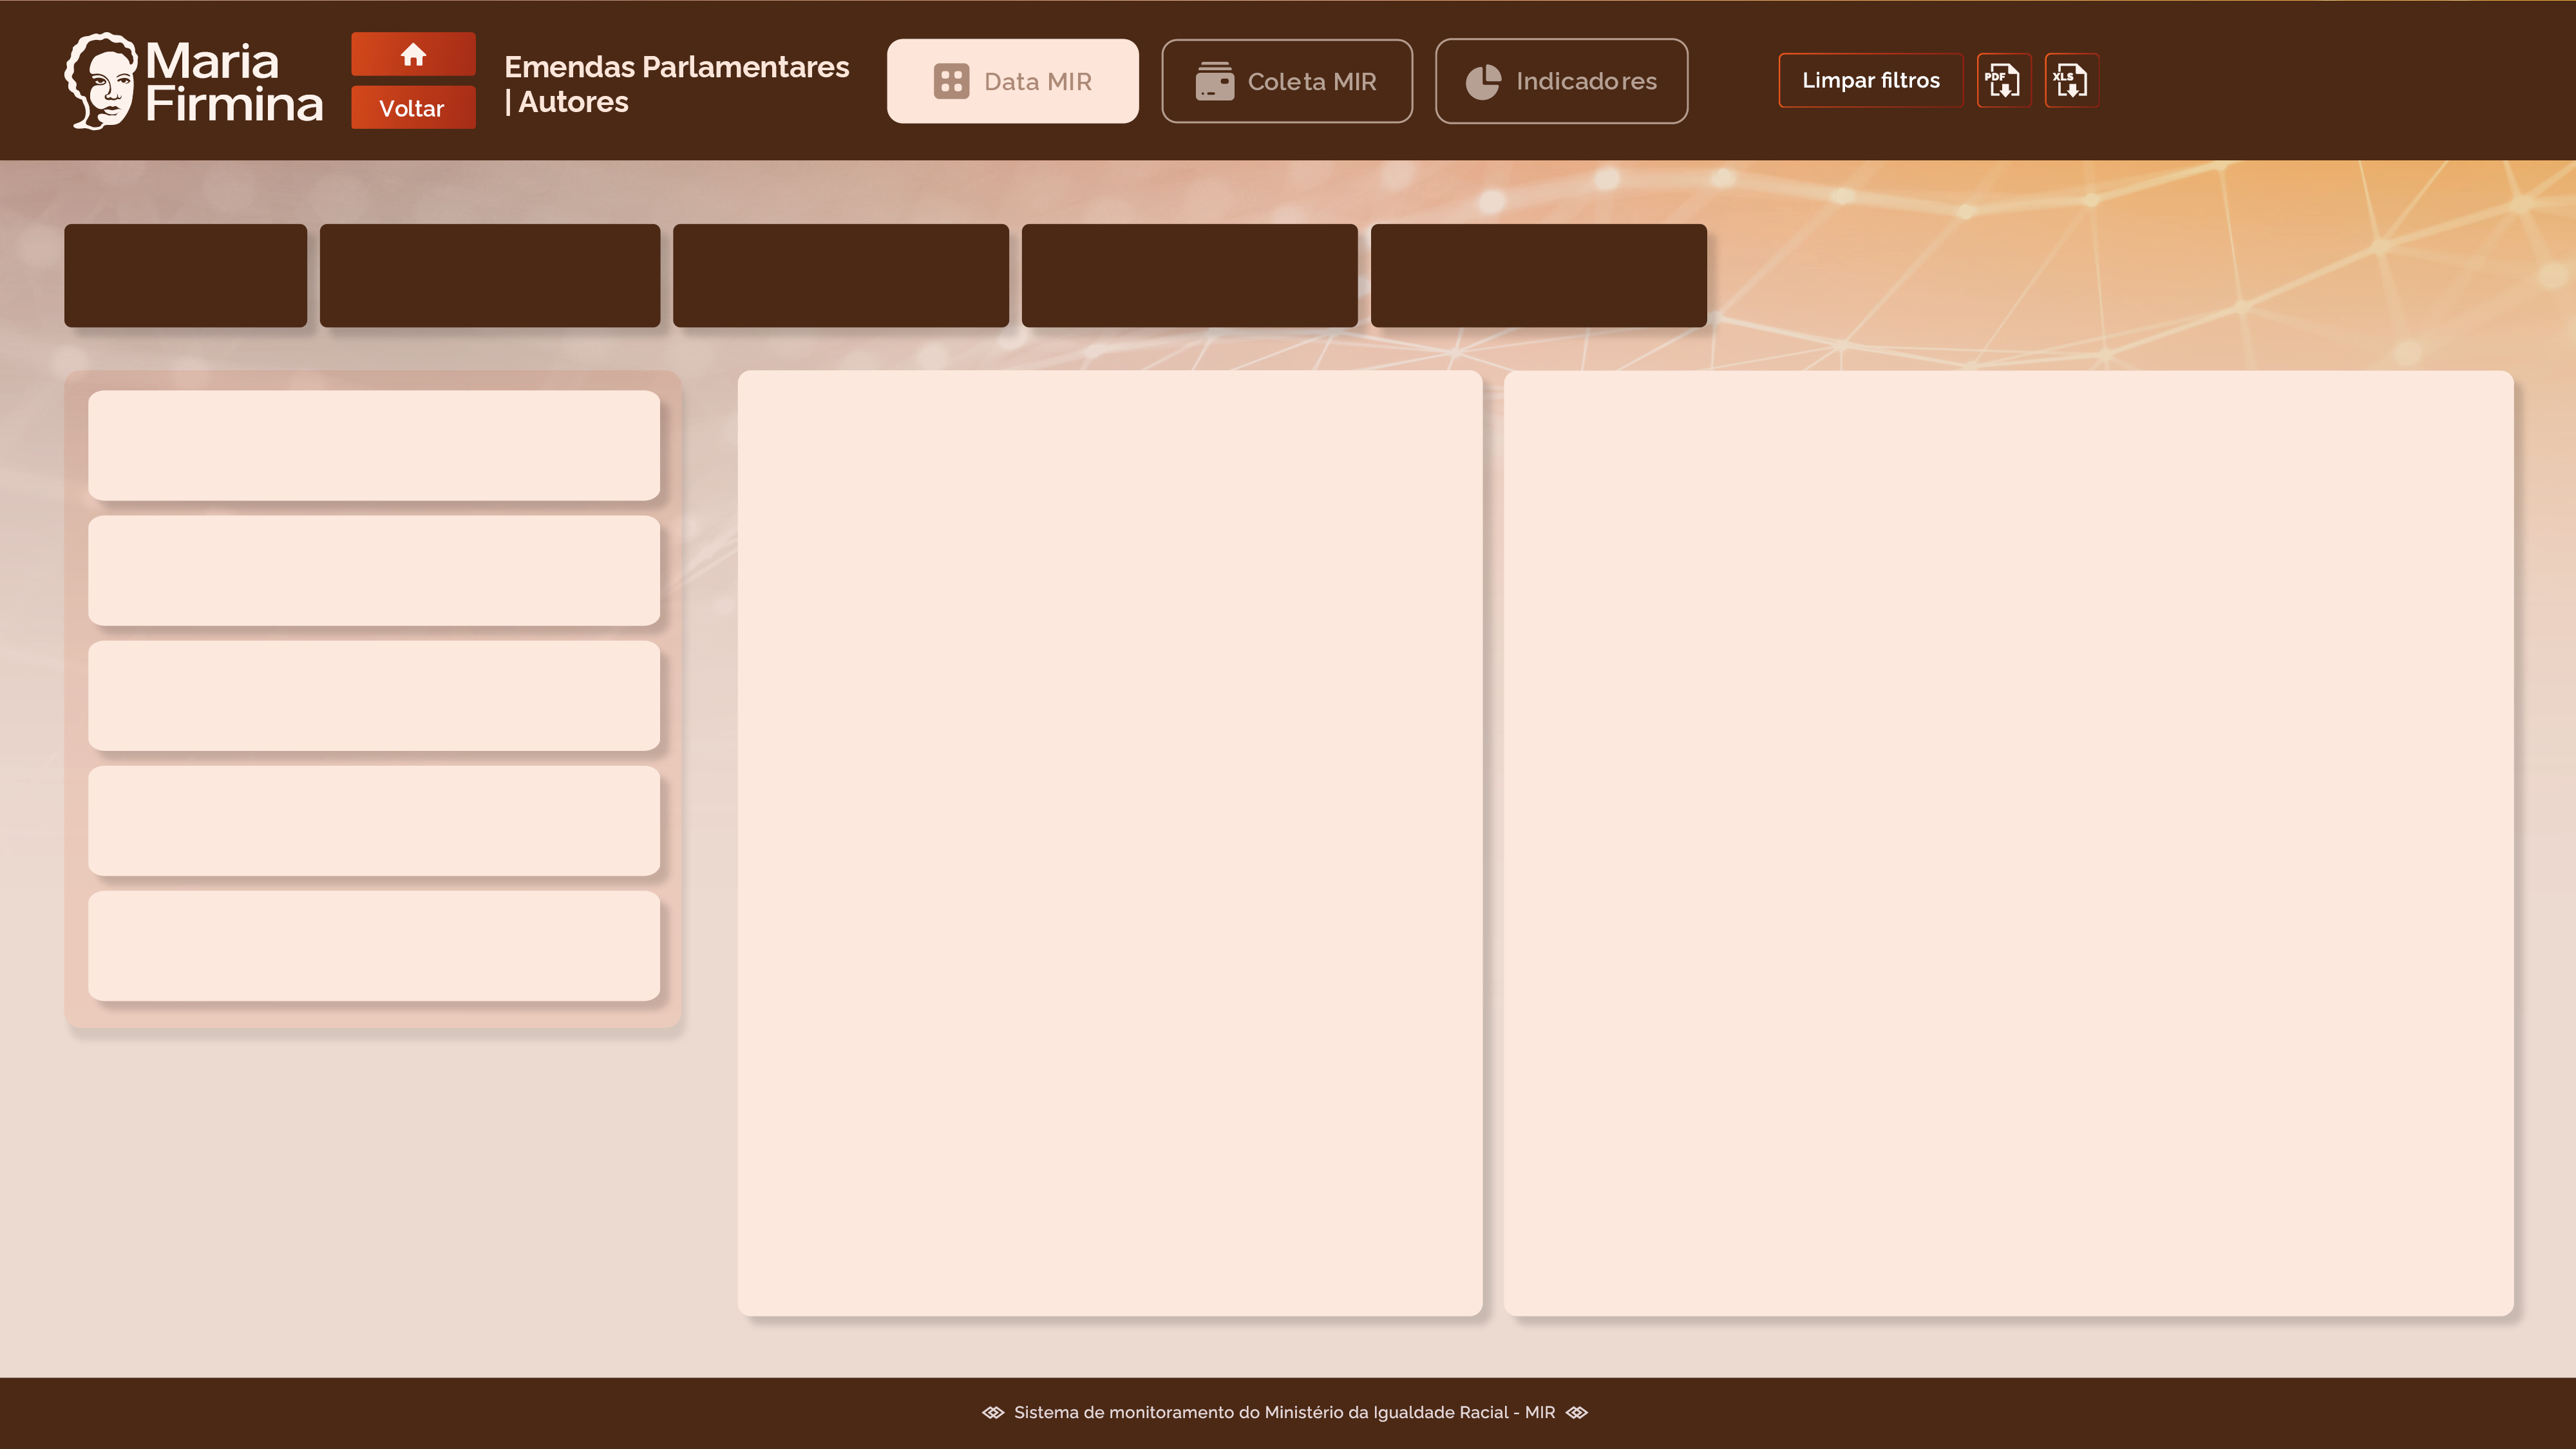

This screenshot's page, from the dashboard's own definition file:
{"tool":"powerbi","page":{"name":"Emendas Detalhamento","canvas":[1920,1080],"ordinal":7},"visuals":[{"type":"cardVisual","fields":{"Data":["Sum(emendas_execucao.despesas_empenhadas)"]},"box":[437.5,168.5,217.1,72.9],"z":0},{"type":"cardVisual","fields":{"Data":["Sum(emendas_execucao.despesas_liquidadas)"]},"box":[676.1,168.5,207.1,72.9],"z":1000},{"type":"cardVisual","fields":{"Data":["Sum(emendas_execucao.despesas_pagas)"]},"box":[904.6,168.5,210,72.9],"z":2000},{"type":"slicer","fields":{"Values":["emendas_execucao.ne_ccor_ano_emissao"]},"box":[64.3,288.6,301.4,71.4],"z":3000},{"type":"slicer","fields":{"Values":["emendas_execucao.autor_emendas_orcamento_nome"]},"box":[62.9,391.4,302.9,70],"z":4000},{"type":"slicer","fields":{"Values":["emendas_execucao.cargo_autor"]},"box":[62.9,484.3,302.9,68.6],"z":5000},{"type":"slicer","fields":{"Values":["emendas_execucao.codigo+acaoajustada"]},"box":[64.3,192.9,301.4,78.6],"z":6000},{"type":"tableEx","fields":{"Values":["emendas_execucao.ne_ccor_ano_emissao","emendas_execucao.numero_instrumento","emendas_execucao.tipo_instrumento","emendas_execucao.modalidade","emendas_execucao.autor","emendas_execucao.uf_autor","emendas_execucao.partido","Sum(emendas_execucao.dotacao_inicial)","Sum(emendas_execucao.despesas_empenhadas)","Sum(emendas_execucao.despesas_pagas)","emendas_execucao.programa","emendas_execucao.acao_ajustada"]},"box":[435,265,1435,713.8],"z":7000},{"type":"slicer","fields":{"Values":["emendas_execucao.codigo+programa"]},"box":[64.3,678.6,301.4,71.4],"z":8000},{"type":"slicer","fields":{"Values":["emendas_execucao.uf_autor"]},"box":[64.3,767.1,301.4,75.7],"z":9000},{"type":"textbox","box":[0,1917.1,1420,82.9],"z":10000},{"type":"slicer","fields":{"Values":["emendas_execucao.partido"]},"box":[64.3,574.3,301.4,74.3],"z":11000},{"type":"cardVisual","fields":{"Data":["Sum(emendas_execucao.restos_a_pagar_pagos)"]},"box":[1391.8,168.5,264.3,72.9],"z":13000},{"type":"cardVisual","fields":{"Data":["_medidas.Percentual Pago"]},"box":[1136.1,169.9,230,71.4],"z":14000},{"type":"cardVisual","fields":{"Data":["Sum(emendas_execucao.dotacao_inicial)"]},"box":[1676.1,168.5,197.1,72.9],"z":15000},{"type":"slicer","fields":{"Values":["emendas_execucao.tipo_instrumento"]},"box":[64.3,871.4,301.4,75.7],"z":16000},{"type":"actionButton","box":[261.5,62,94.3,32.9],"z":17000},{"type":"actionButton","box":[261.7,22.8,92.2,33.3],"z":18000},{"type":"textbox","box":[1642.6,29.3,167.6,71.8],"z":19000},{"type":"actionButton","box":[1326.7,40.7,137.8,38.9],"z":20000},{"type":"image","box":[1820,42,53.3,37.8],"z":21000},{"type":"actionButton","box":[661.3,28.7,187.3,62.7],"z":22000},{"type":"actionButton","box":[866,28.7,187.3,62.7],"z":23000},{"type":"actionButton","box":[1069.3,30,187.3,62.7],"z":24000},{"type":"pageNavigator","box":[63.8,129.2,540,23.1],"z":25000}]}

Visuals, with their boxes on the page's 1920x1080 design canvas (x1, y1, x2, y2). These are canvas units, not pixel positions in the 2576x1449 screenshot, which may show the page scaled, cropped or inside an application window:
cardVisual - Sum(emendas_execucao.despesas_empenhadas): (x1=438, y1=168, x2=655, y2=241)
cardVisual - Sum(emendas_execucao.despesas_liquidadas): (x1=676, y1=168, x2=883, y2=241)
cardVisual - Sum(emendas_execucao.despesas_pagas): (x1=905, y1=168, x2=1115, y2=241)
slicer - emendas_execucao.ne_ccor_ano_emissao: (x1=64, y1=289, x2=366, y2=360)
slicer - emendas_execucao.autor_emendas_orcamento_nome: (x1=63, y1=391, x2=366, y2=461)
slicer - emendas_execucao.cargo_autor: (x1=63, y1=484, x2=366, y2=553)
slicer - emendas_execucao.codigo+acaoajustada: (x1=64, y1=193, x2=366, y2=272)
tableEx - emendas_execucao.ne_ccor_ano_emissao x emendas_execucao.numero_instrumento: (x1=435, y1=265, x2=1870, y2=979)
slicer - emendas_execucao.codigo+programa: (x1=64, y1=679, x2=366, y2=750)
slicer - emendas_execucao.uf_autor: (x1=64, y1=767, x2=366, y2=843)
textbox: (x1=0, y1=1917, x2=1420, y2=2000)
slicer - emendas_execucao.partido: (x1=64, y1=574, x2=366, y2=649)
cardVisual - Sum(emendas_execucao.restos_a_pagar_pagos): (x1=1392, y1=168, x2=1656, y2=241)
cardVisual - _medidas.Percentual Pago: (x1=1136, y1=170, x2=1366, y2=241)
cardVisual - Sum(emendas_execucao.dotacao_inicial): (x1=1676, y1=168, x2=1873, y2=241)
slicer - emendas_execucao.tipo_instrumento: (x1=64, y1=871, x2=366, y2=947)
actionButton: (x1=262, y1=62, x2=356, y2=95)
actionButton: (x1=262, y1=23, x2=354, y2=56)
textbox: (x1=1643, y1=29, x2=1810, y2=101)
actionButton: (x1=1327, y1=41, x2=1464, y2=80)
image: (x1=1820, y1=42, x2=1873, y2=80)
actionButton: (x1=661, y1=29, x2=849, y2=91)
actionButton: (x1=866, y1=29, x2=1053, y2=91)
actionButton: (x1=1069, y1=30, x2=1257, y2=93)
pageNavigator: (x1=64, y1=129, x2=604, y2=152)
